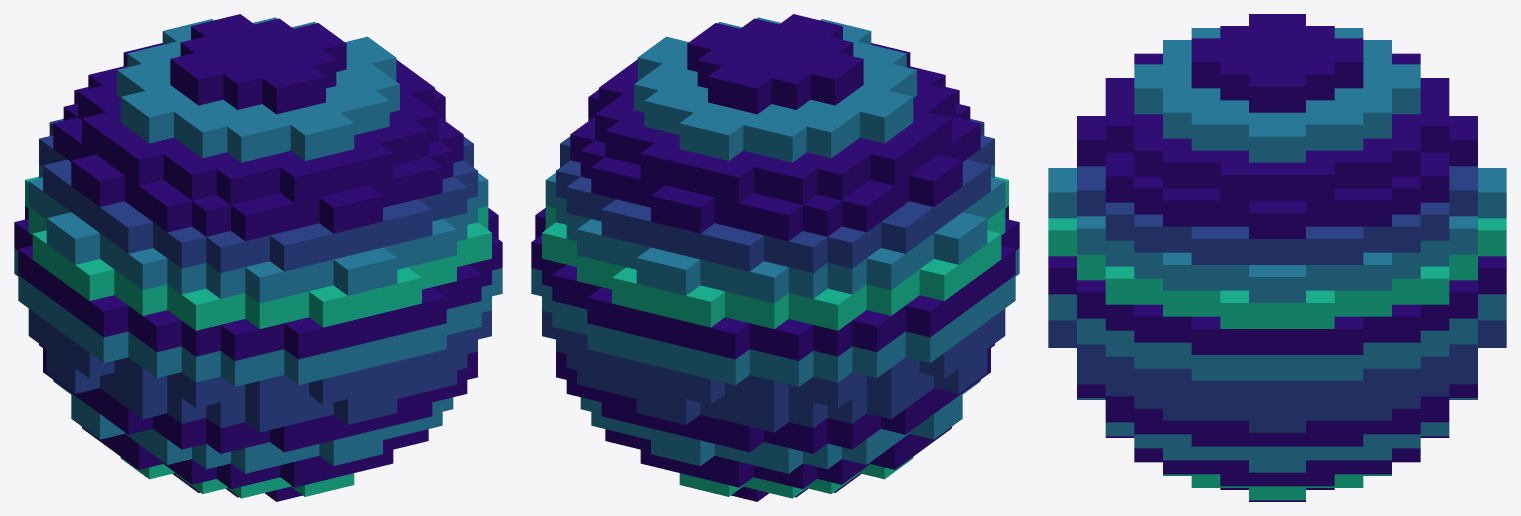
The model's file is planetas-16-azullistrado.obj.
3 views of the same model, side by side, from view 1: azimuth 30°, elevation 25°; view 2: azimuth 150°, elevation 25°; view 3: azimuth 270°, elevation 25° (orthographic).
Size of the model in its own units: 1.6 by 1.6 by 1.6.
Materials: 1 (1 with a texture image).
